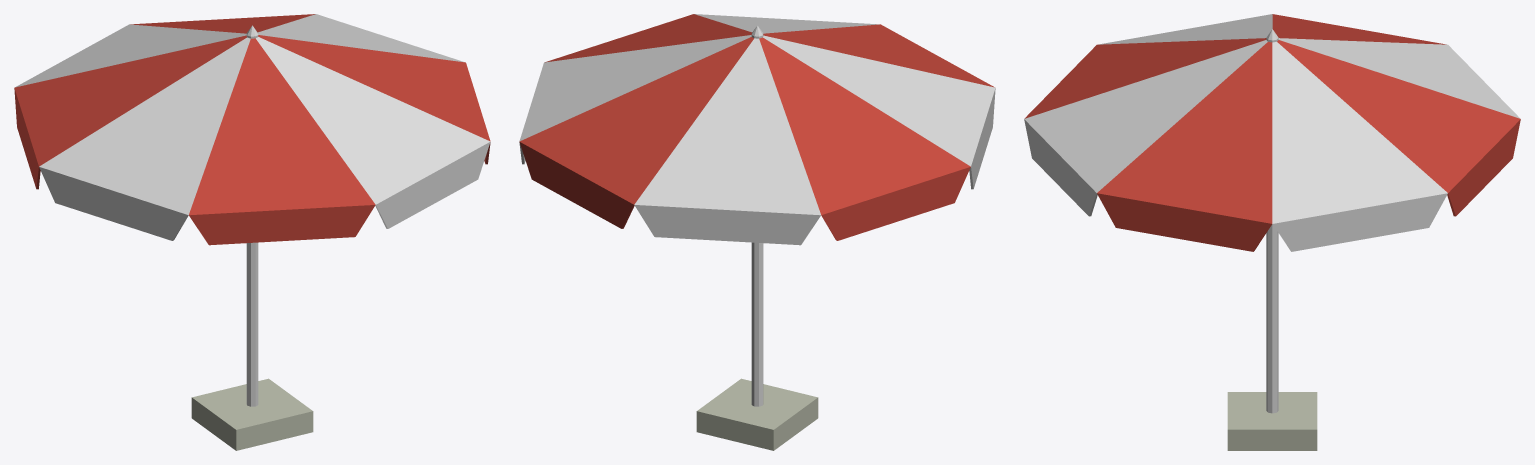
The model's file is Umbrella_Red_vc.fbx.
3 renders of one model, left to right at view 1: azimuth 30°, elevation 25°; view 2: azimuth 150°, elevation 25°; view 3: azimuth 270°, elevation 25°, orthographic.
Parts seen in each view (by area): view 1: Umbrella_Red_vc; view 2: Umbrella_Red_vc; view 3: Umbrella_Red_vc.
Boxes of the visible parts, <box> form: Umbrella_Red_vc: <box>14,14,490,450</box>; Umbrella_Red_vc: <box>519,14,995,450</box>; Umbrella_Red_vc: <box>1024,14,1520,450</box>.
Bounding box in the file's own units: 584 × 523 × 584.
